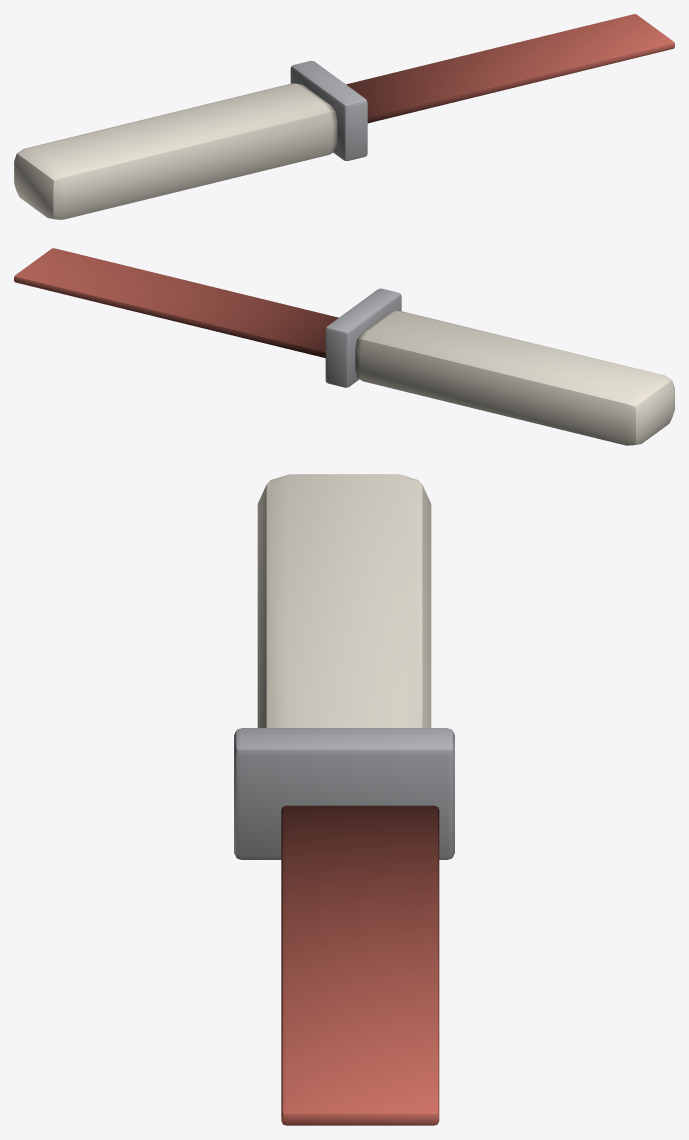
The model's file is forage_knife.glb.
The picture shows the model from 3 angles, top to bottom: view 1: azimuth 30°, elevation 25°; view 2: azimuth 150°, elevation 25°; view 3: azimuth 270°, elevation 25°; orthographic projection. The views are drawn at different scales.
Parts seen in each view (by area): view 1: PART; view 2: PART; view 3: PART.
Boxes of the visible parts, <box> form: PART: <box>14,14,674,219</box>; PART: <box>14,248,674,445</box>; PART: <box>234,474,454,1125</box>.
Size of the model in its own units: 0.182 by 0.016 by 0.028.
